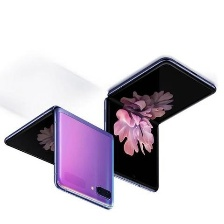phone: (98, 51, 217, 196), (0, 99, 117, 210)
